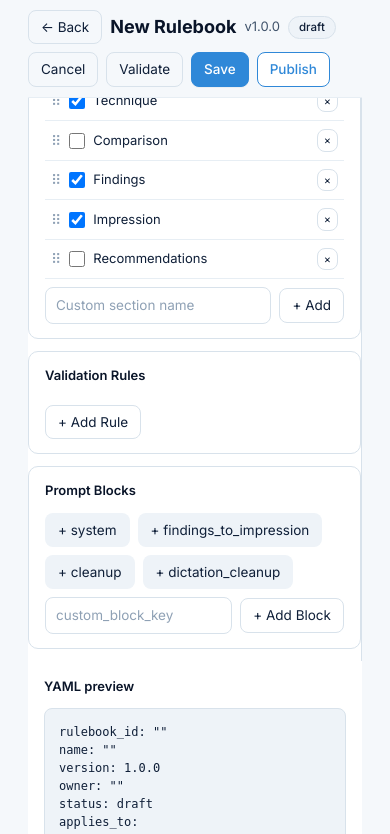
rulebook editor › "Add Rule" picker shows available rule IDs
(page scrolled)
Click the button "+ Add Rule": (93, 422) 45,405 -> 141,439
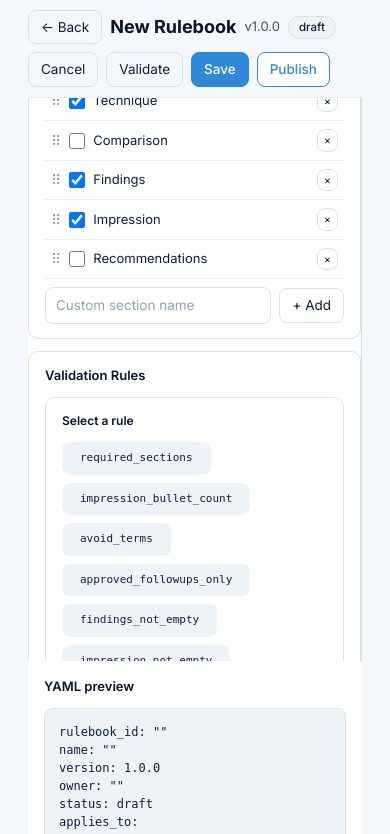
Expected: the text "Select a rule" is shown, 62,413 -> 134,428
Expected: the text "required_sections" is shown, 75,449 -> 198,468
Expected: the text "avoid_terms" is shown, 75,530 -> 158,548
